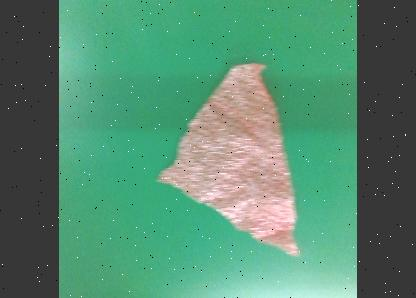Others: (156, 62, 300, 256)
